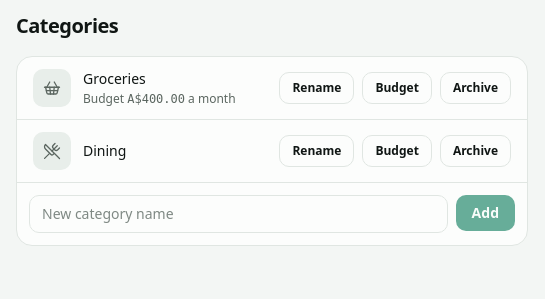
Test case: CategoryManager › budgets › rejects an amount that is not a positive figure, and stays in the field
Click the button with aria-label "Budget for Dining" at (397, 151), box [362,135,432,167]
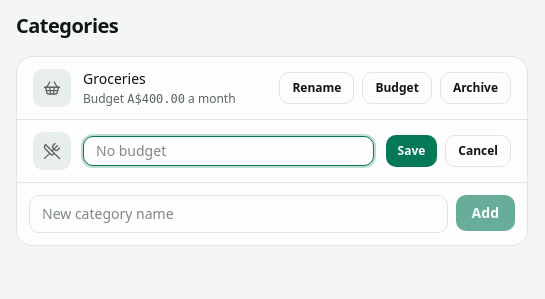
Type "12.345" into the field named "Monthly budget for Dining" at (228, 151), box [83,136,374,166]
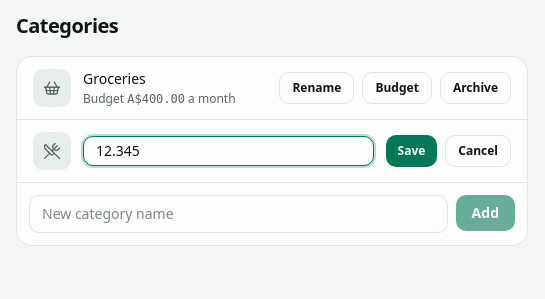
Click the button "Save" at (411, 151), box [386,135,437,167]
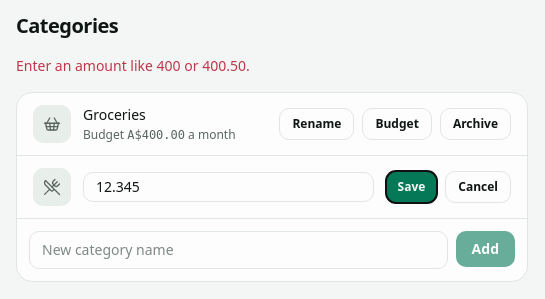
Check: the text "Enter an amount like 400 or 400.50." is shown, box [16,56,250,75]
